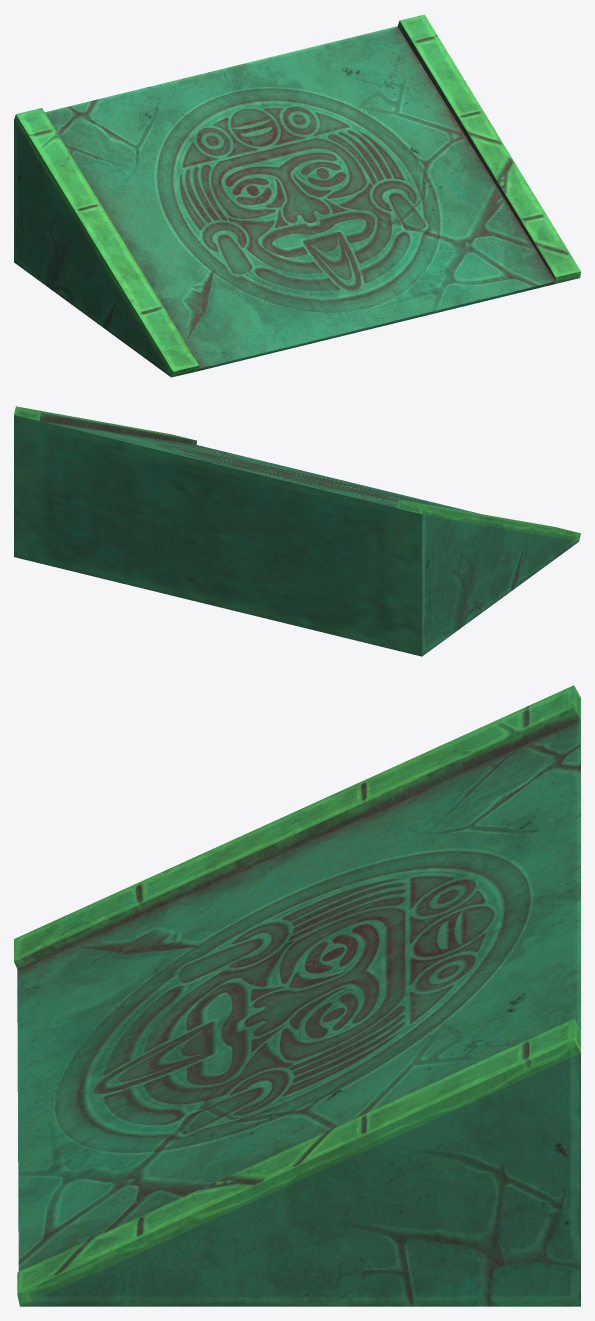
The model's file is ramp1.obj.
3 renders of one model, top to bottom at view 1: azimuth 30°, elevation 25°; view 2: azimuth 150°, elevation 25°; view 3: azimuth 270°, elevation 25°, orthographic. The views are drawn at different scales.
Parts seen in each view (by area): view 1: ramp_low; view 2: ramp_low; view 3: ramp_low.
Part boxes in pixels (x1,y1,x2,y2): ramp_low: (14, 14, 580, 377); ramp_low: (14, 406, 580, 656); ramp_low: (14, 685, 580, 1306).
Size of the model in its own units: 299 by 105 by 202.
